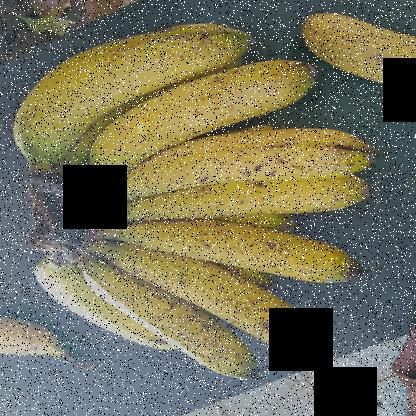ripe: (7, 13, 246, 156), (64, 60, 331, 181), (114, 235, 338, 360), (114, 196, 367, 282), (87, 133, 374, 197), (112, 181, 393, 226)
